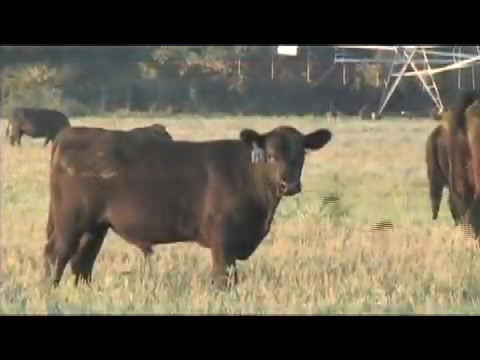cow: (44, 125, 331, 291), (424, 90, 480, 240), (5, 107, 72, 149)
